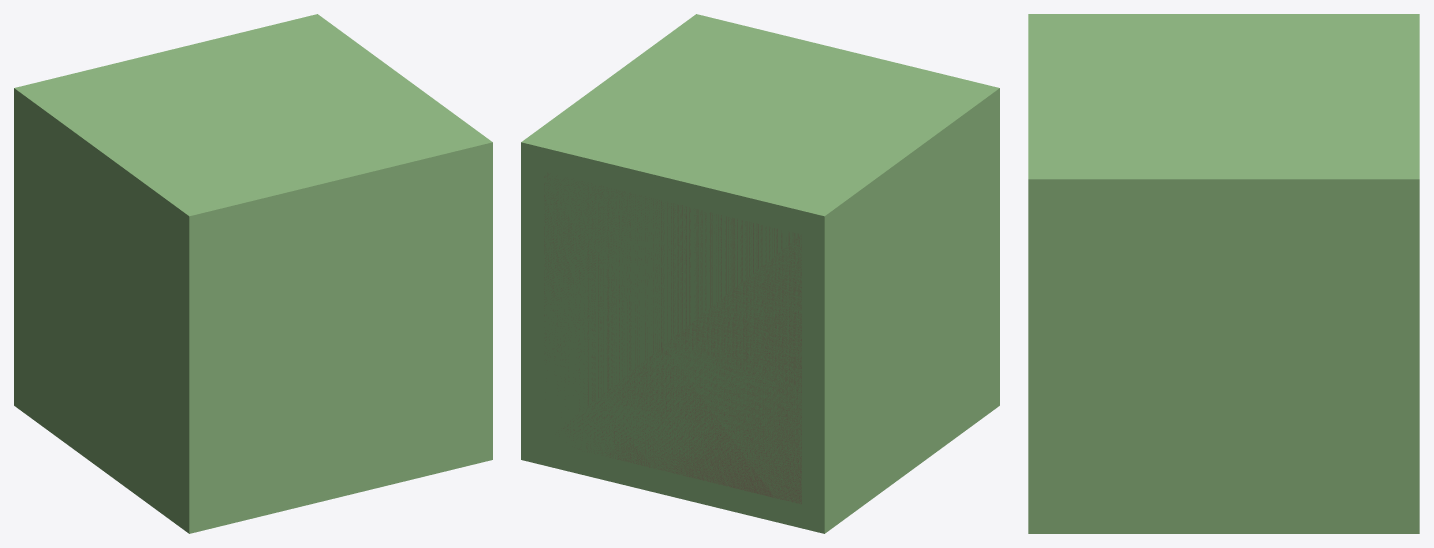
File: 74_fern.glb
The picture shows the model from 3 angles, left to right: view 1: azimuth 30°, elevation 25°; view 2: azimuth 150°, elevation 25°; view 3: azimuth 270°, elevation 25°; orthographic projection. The views are drawn at different scales.
Visible parts, largest first — view 1: Core; view 2: Core, Soil; view 3: Core.
Boxes of the visible parts, bbox=[...] form: Core: bbox=[14, 14, 492, 533]; Core: bbox=[521, 14, 999, 533]; Soil: bbox=[544, 173, 801, 503]; Core: bbox=[1028, 14, 1419, 533].
Size of the model in its own units: 1 by 1 by 1.
